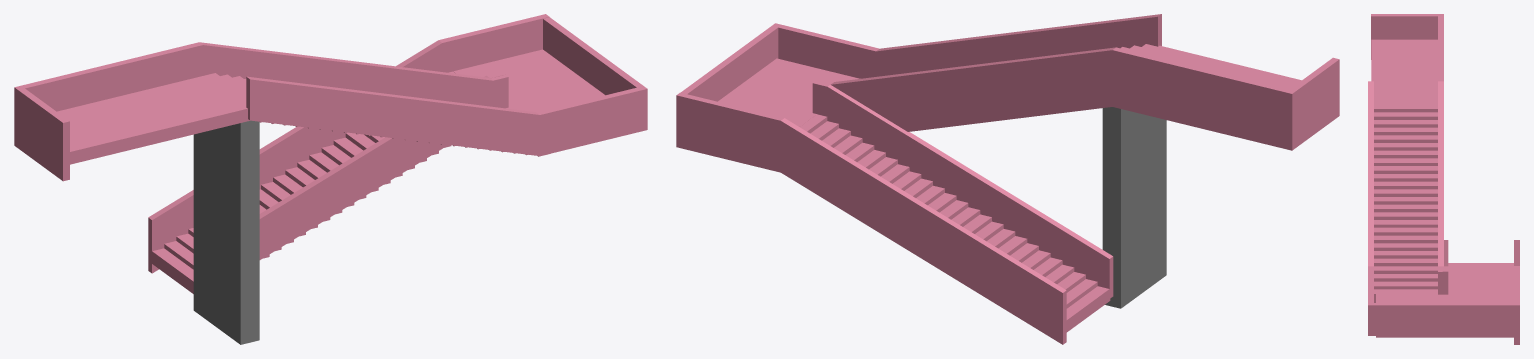
The model's file is sundaiKAIDAN.fbx.
The picture shows the model from 3 angles, left to right: view 1: azimuth 30°, elevation 25°; view 2: azimuth 150°, elevation 25°; view 3: azimuth 270°, elevation 25°; orthographic projection. The views are drawn at different scales.
Parts seen in each view (by area): view 1: 立方体.026, 立方体.034; view 2: 立方体.026, 立方体.034; view 3: 立方体.026.
Part boxes in pixels (box(x1,y1,x2,y2)): 立方体.026: box(14, 14, 647, 293); 立方体.034: box(193, 120, 259, 344); 立方体.026: box(676, 14, 1339, 344); 立方体.034: box(1102, 107, 1166, 308); 立方体.026: box(1368, 14, 1519, 344).
Bounding box in the file's own units: 1615 × 705 × 489.
